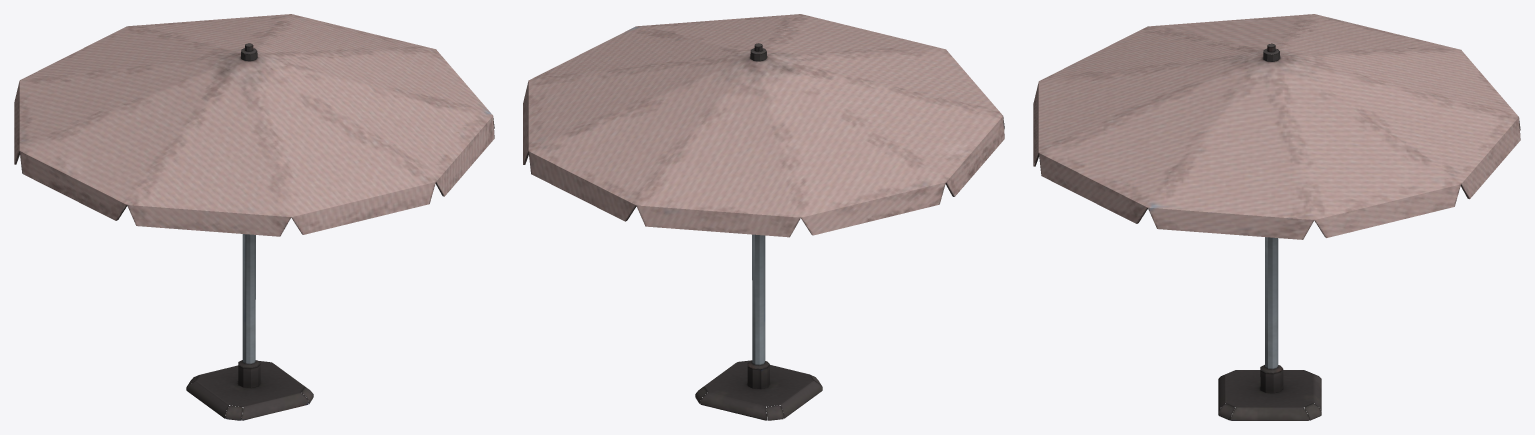
Rendered from Umbrella2.fbx.
The picture shows the model from 3 angles, left to right: view 1: azimuth 30°, elevation 25°; view 2: azimuth 150°, elevation 25°; view 3: azimuth 270°, elevation 25°; orthographic projection.
Visible parts, largest first — view 1: Umbrella; view 2: Umbrella; view 3: Umbrella.
Boxes of the visible parts, box(x1,y1,x2,y2) form: Umbrella: box(14, 14, 494, 420); Umbrella: box(523, 14, 1004, 420); Umbrella: box(1033, 14, 1520, 420).
Bounding box in the file's own units: 666 × 525 × 656.
